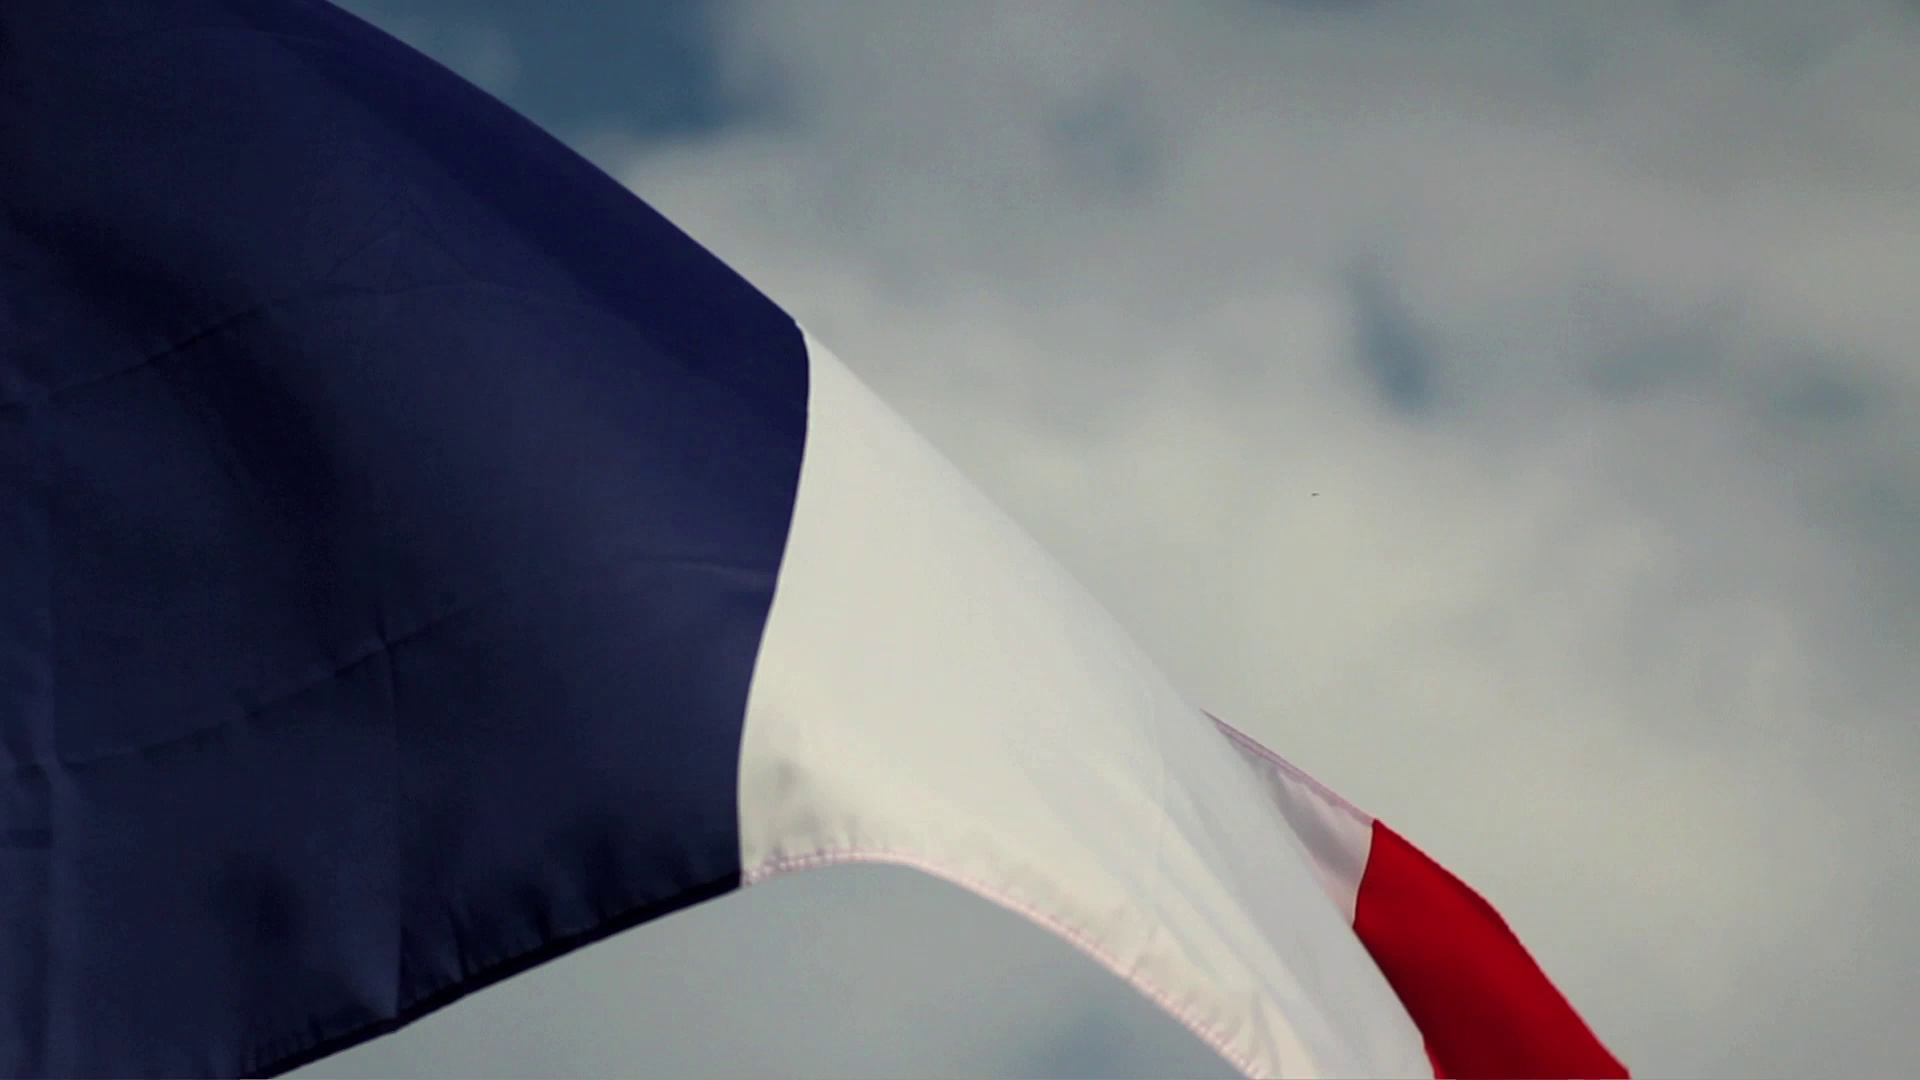French Flag: (1, 1, 1631, 1080)
